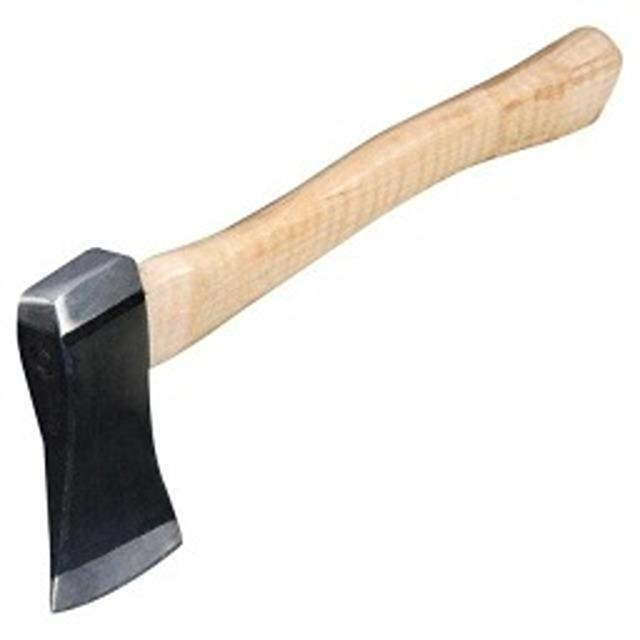ax: (6, 12, 634, 622)
